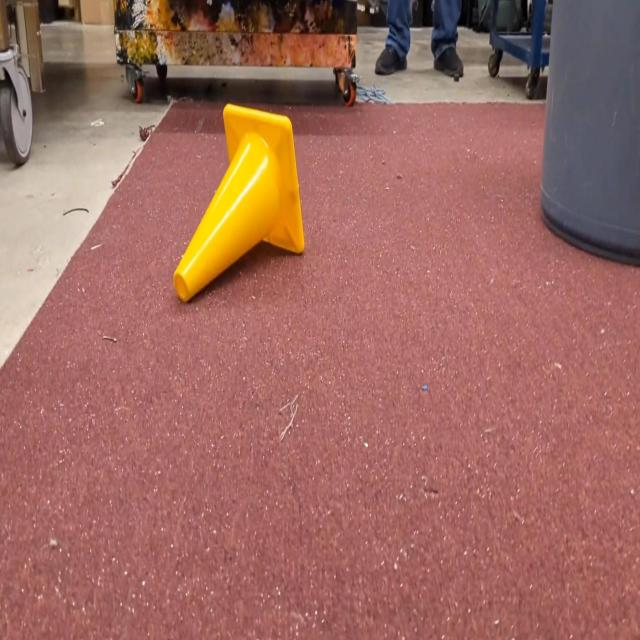frc_cone: (174, 106, 304, 303)
